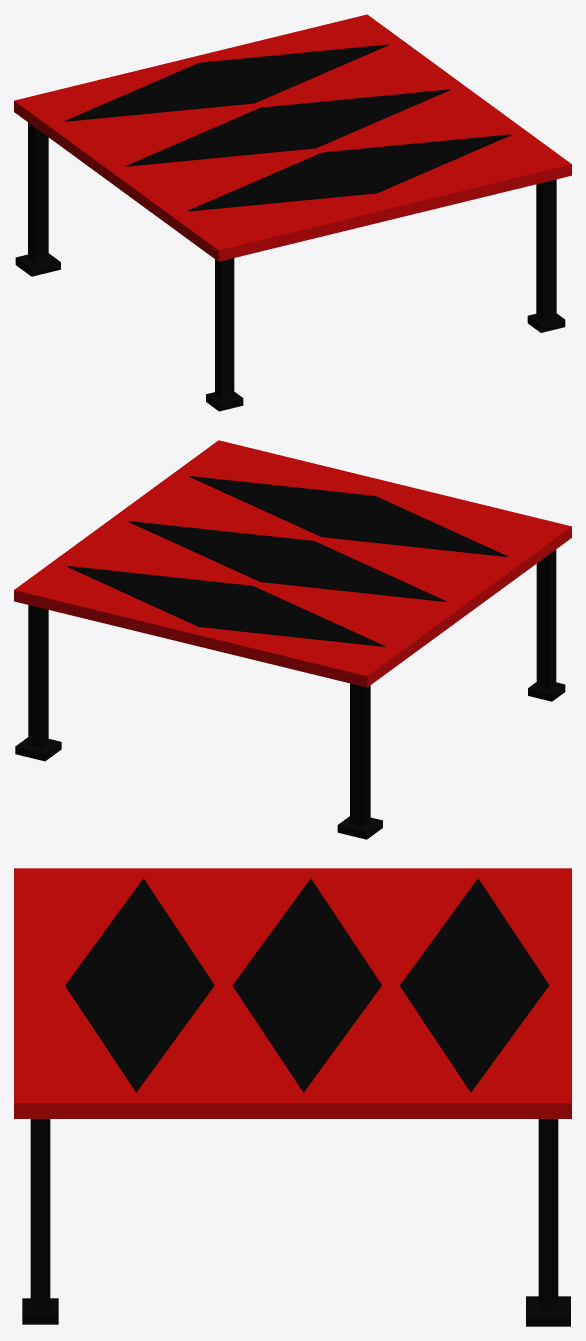
Rendered from стол.obj.
The picture shows the model from 3 angles, top to bottom: view 1: azimuth 30°, elevation 25°; view 2: azimuth 150°, elevation 25°; view 3: azimuth 270°, elevation 25°; orthographic projection. The views are drawn at different scales.
Parts seen in each view (by area): view 1: Cube_Cube.006, Cube.001_Cube.019, Cube.002_Cube.020, Cube.003_Cube.021, Cube.005_Cube.011, Cube.007_Cube.013, Cube.008_Cube.014, Cube.010_Cube.016; view 2: Cube_Cube.006, Cube.003_Cube.021, Cube.001_Cube.019, Cube.002_Cube.020, Cube.007_Cube.013, Cube.006_Cube.012, Cube.008_Cube.014, Cube.011_Cube.017, Cube.010_Cube.016; view 3: Cube_Cube.006, Cube.001_Cube.019, Cube.002_Cube.020, Cube.003_Cube.021, Cube.005_Cube.011, Cube.006_Cube.012, Cube.011_Cube.017, Cube.012_Cube.018.
Boxes of the visible parts, <box> form: Cube_Cube.006: <box>14,14,571,261</box>; Cube.001_Cube.019: <box>65,44,388,121</box>; Cube.002_Cube.020: <box>126,89,449,166</box>; Cube.003_Cube.021: <box>188,134,511,211</box>; Cube.005_Cube.011: <box>536,179,556,321</box>; Cube.007_Cube.013: <box>28,122,48,263</box>; Cube.008_Cube.014: <box>215,258,234,399</box>; Cube.010_Cube.016: <box>15,253,60,276</box>; Cube_Cube.006: <box>14,440,571,687</box>; Cube.003_Cube.021: <box>189,476,507,556</box>; Cube.001_Cube.019: <box>67,566,384,646</box>; Cube.002_Cube.020: <box>128,521,446,601</box>; Cube.007_Cube.013: <box>350,683,370,826</box>; Cube.006_Cube.012: <box>28,605,48,748</box>; Cube.008_Cube.014: <box>536,549,556,690</box>; Cube.011_Cube.017: <box>15,737,61,761</box>; Cube.010_Cube.016: <box>337,816,382,839</box>; Cube_Cube.006: <box>14,868,571,1118</box>; Cube.001_Cube.019: <box>400,878,548,1092</box>; Cube.002_Cube.020: <box>232,878,381,1092</box>; Cube.003_Cube.021: <box>65,878,214,1092</box>; Cube.005_Cube.011: <box>30,1119,50,1310</box>; Cube.006_Cube.012: <box>538,1119,558,1310</box>; Cube.011_Cube.017: <box>526,1296,570,1326</box>; Cube.012_Cube.018: <box>22,1298,58,1324</box>.
Bounding box in the file's own units: 4.24 × 1.9 × 4.26.
